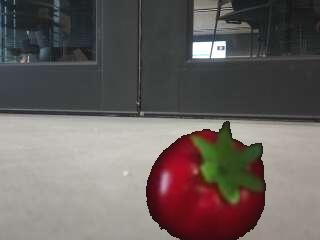Tomato: (147, 123, 267, 240)
